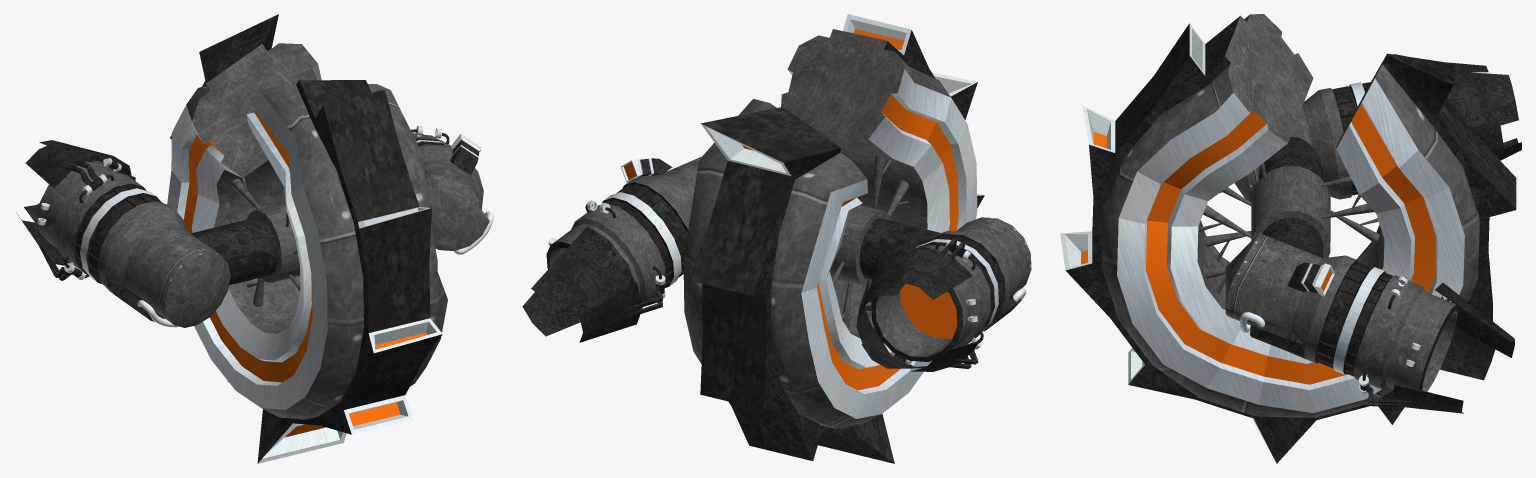
Rendered from DeathWheel_40.dae.
3 renders of one model, left to right at view 1: azimuth 30°, elevation 25°; view 2: azimuth 150°, elevation 25°; view 3: azimuth 270°, elevation 25°, orthographic. The views are drawn at different scales.
Parts seen in each view (by area): view 1: DeathWheel_2, rightThruster, leftThruster, Axel, polySurface115, ThickSpinner_ncl1_1, polySurface99, rightSpokes, ThinSpinner_ncl1_1, polySurface113; view 2: DeathWheel_2, rightThruster, leftThruster, inFlap2, polySurface115, outFlap2, Axel, polySurface113, ThickSpinner, rightSpokes, outFlap1, polySurface99 (+4 smaller); view 3: DeathWheel_2, leftThruster, rightThruster, polySurface113, Axel, ThickSpinner, inFlap2, outFlap2, outFlap1, rightSpokes, leftSpokes, ThinSpinner (+2 smaller).
Boxes of the visible parts, x1,y1,x2,y2 form: DeathWheel_2: [167, 14, 447, 463]; rightThruster: [37, 158, 230, 327]; leftThruster: [411, 126, 493, 254]; Axel: [190, 217, 278, 285]; polySurface115: [25, 143, 103, 191]; ThickSpinner_ncl1_1: [88, 195, 162, 284]; polySurface99: [17, 214, 82, 280]; rightSpokes: [230, 177, 300, 306]; ThinSpinner_ncl1_1: [75, 185, 144, 272]; polySurface113: [39, 140, 132, 178]; DeathWheel_2: [683, 14, 984, 463]; rightThruster: [871, 217, 1031, 364]; leftThruster: [546, 156, 701, 302]; inFlap2: [531, 226, 634, 327]; polySurface115: [900, 237, 972, 299]; outFlap2: [579, 282, 664, 342]; Axel: [859, 218, 940, 279]; polySurface113: [859, 249, 916, 318]; ThickSpinner: [616, 184, 687, 277]; rightSpokes: [831, 155, 909, 331]; outFlap1: [522, 292, 580, 336]; polySurface99: [910, 341, 979, 371]; DeathWheel_2: [1060, 14, 1516, 463]; leftThruster: [1225, 233, 1458, 393]; rightThruster: [1234, 80, 1371, 202]; polySurface113: [1447, 72, 1518, 127]; Axel: [1259, 137, 1322, 257]; ThickSpinner: [1316, 261, 1372, 367]; inFlap2: [1435, 283, 1514, 357]; outFlap2: [1440, 327, 1495, 380]; outFlap1: [1360, 384, 1463, 413]; rightSpokes: [1203, 162, 1379, 262]; leftSpokes: [1198, 194, 1374, 294]; ThinSpinner: [1345, 273, 1393, 376].
Bounding box in the file's own units: 5.72 × 5.05 × 5.08.
